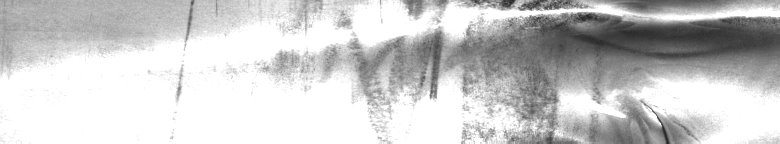ke: (388, 4, 776, 136)
